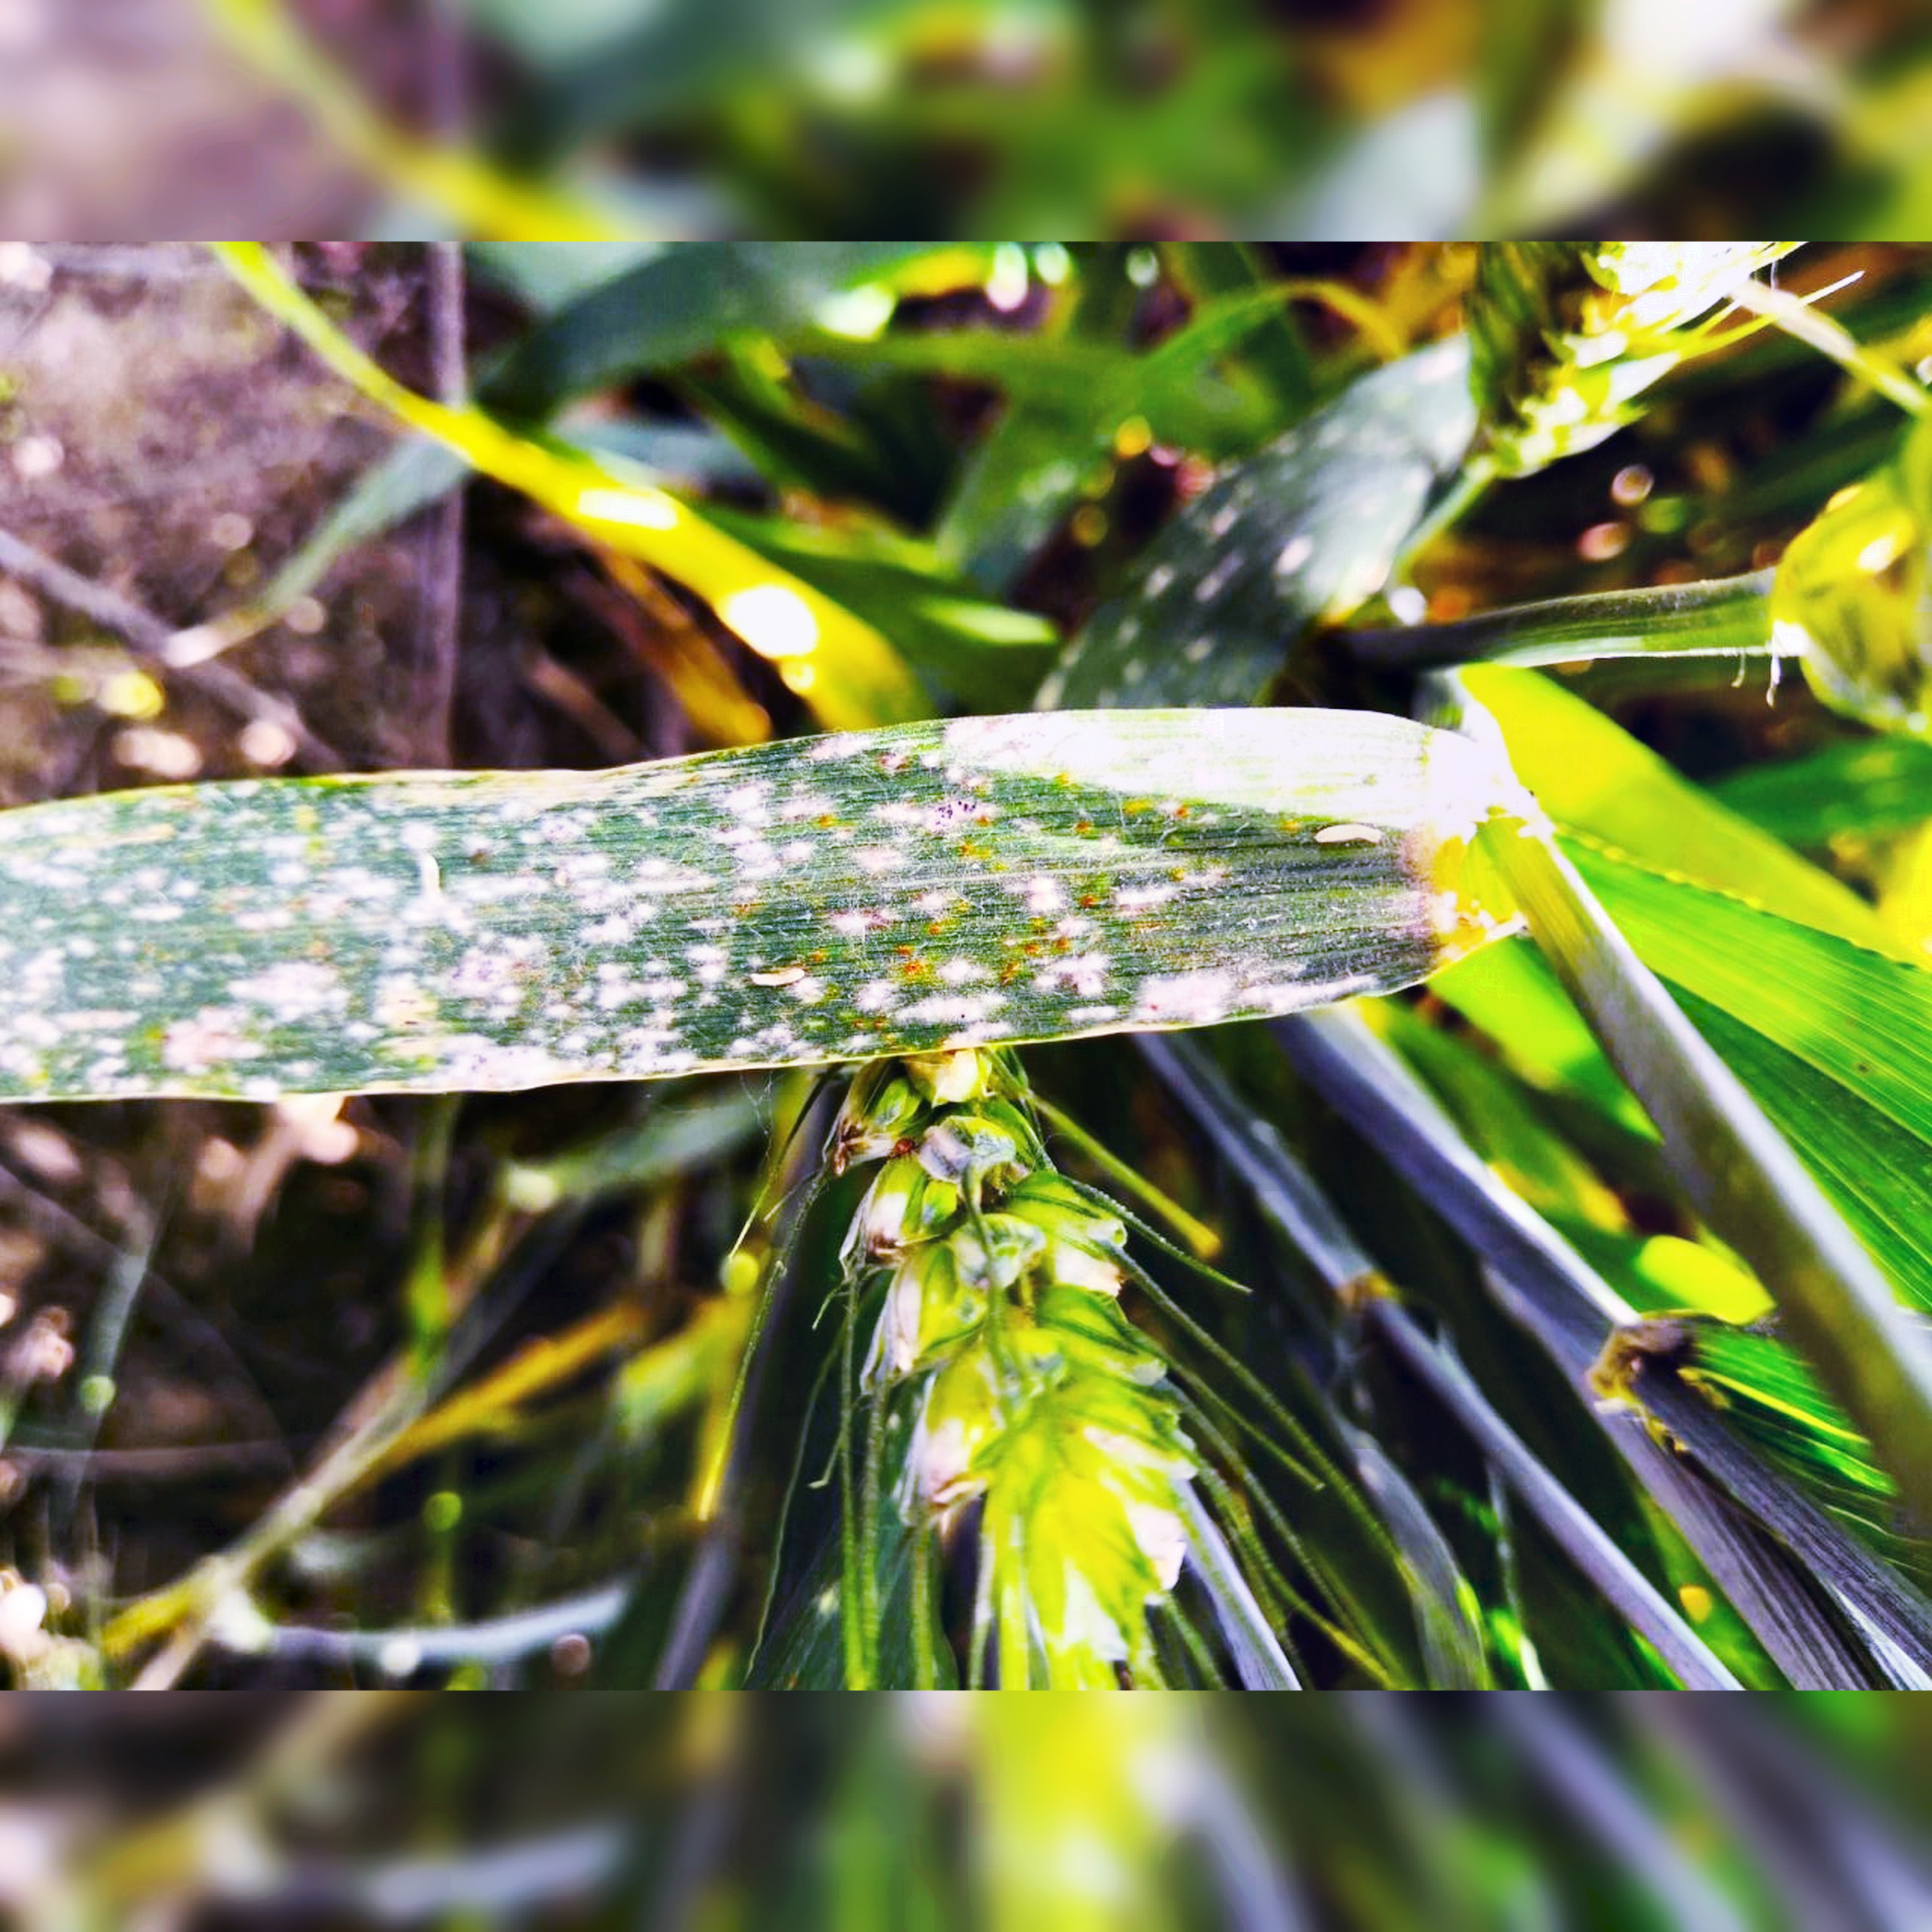Powdery Mildew: (64, 690, 1384, 1127)
